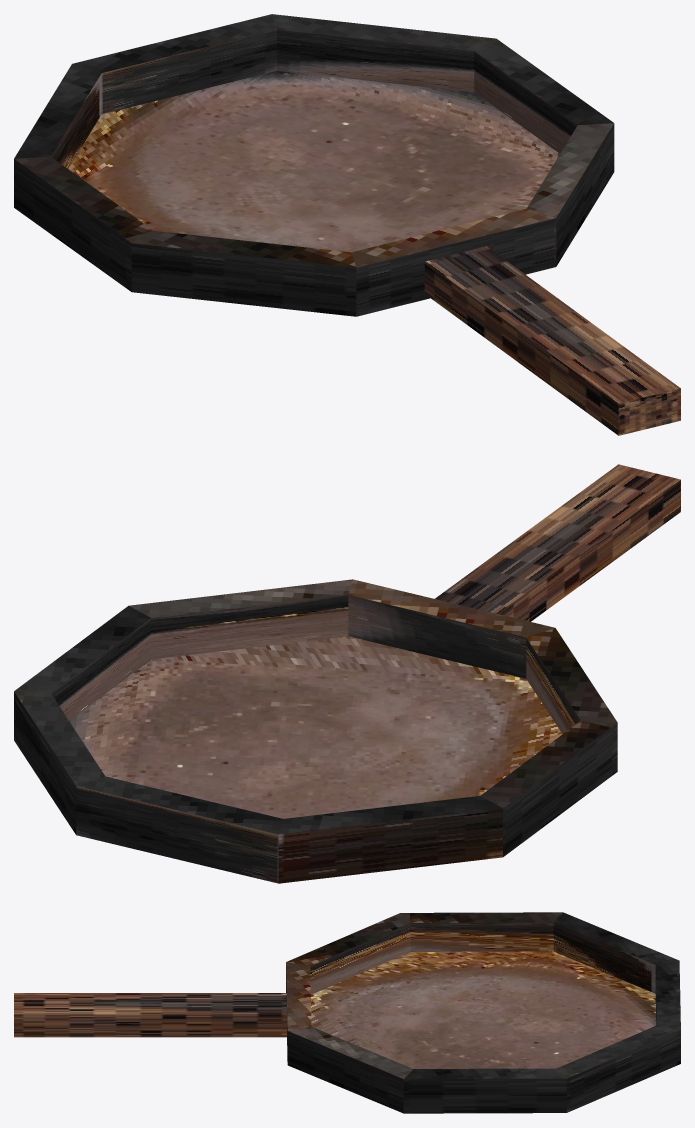
File: patelnia.glb
The picture shows the model from 3 angles, top to bottom: view 1: azimuth 30°, elevation 25°; view 2: azimuth 150°, elevation 25°; view 3: azimuth 270°, elevation 25°; orthographic projection. The views are drawn at different scales.
Parts seen in each view (by area): view 1: Cylinder, Cube; view 2: Cylinder, Cube; view 3: Cylinder, Cube.
Part boxes in pixels (<box>): Cylinder: <box>14,14,614,316</box>; Cube: <box>424,246,680,435</box>; Cylinder: <box>14,579,617,883</box>; Cube: <box>435,464,680,621</box>; Cylinder: <box>286,912,680,1113</box>; Cube: <box>14,993,286,1037</box>.
Size of the model in its own units: 1.85 by 0.1784 by 3.13.
2 materials, 2 textured.
